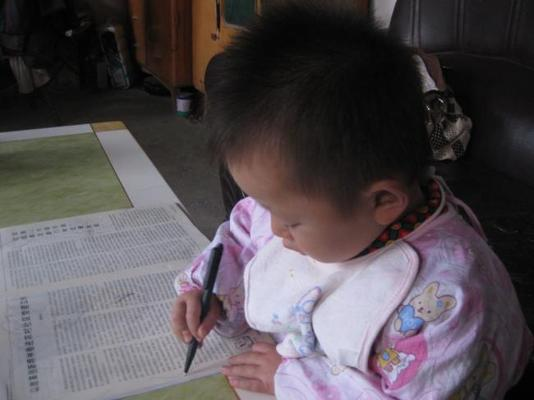person: (171, 12, 527, 400)
